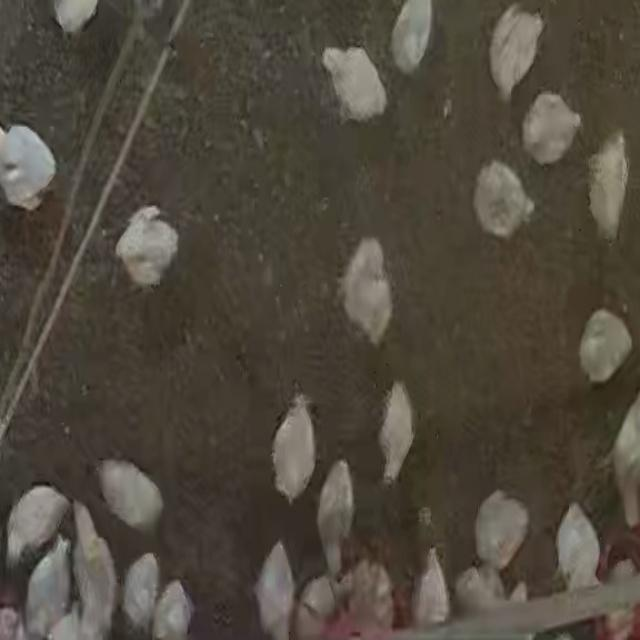chicken: (342, 233, 396, 343), (488, 3, 546, 101), (5, 482, 70, 568), (321, 44, 390, 124), (115, 205, 183, 286), (97, 457, 164, 534), (0, 122, 57, 211), (271, 396, 317, 506), (470, 160, 534, 239), (472, 489, 532, 572), (520, 88, 581, 165), (589, 131, 630, 241), (316, 461, 354, 577), (554, 500, 602, 591), (577, 308, 632, 386), (254, 539, 297, 637), (379, 380, 415, 486), (414, 546, 458, 629), (390, 1, 436, 74), (128, 551, 160, 628)
